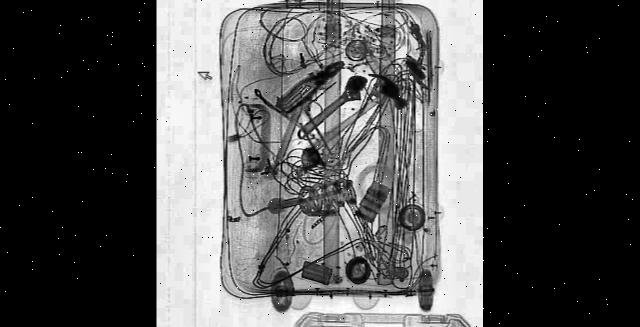Pliers: (282, 49, 346, 116)
Wrench: (295, 64, 370, 148)
